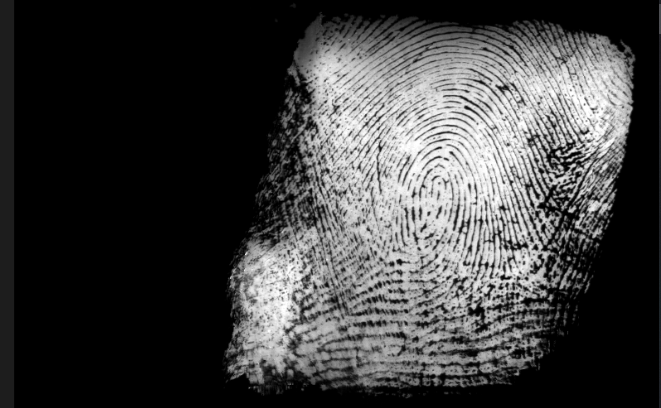nucelo: (420, 174, 460, 232)
verticilo: (488, 262, 523, 291), (379, 236, 405, 270)
